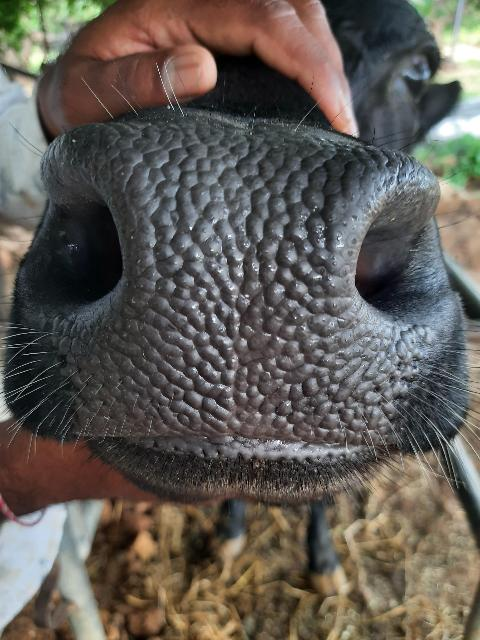Muzzle: (83, 122, 401, 456)
